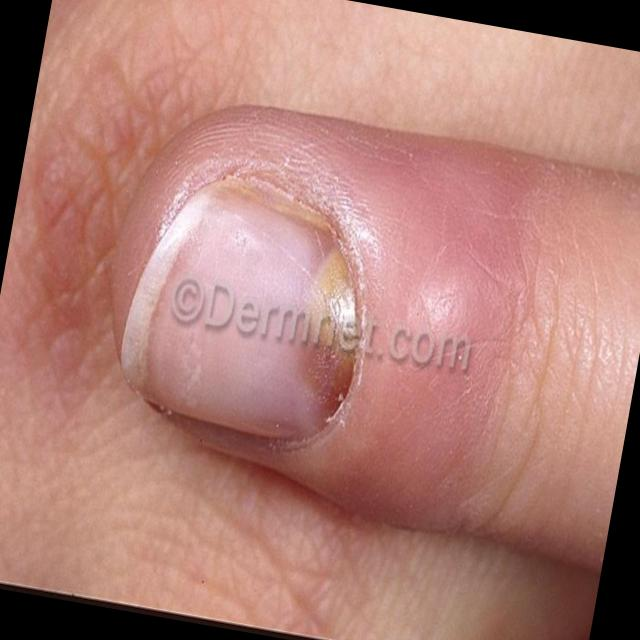Nail: (122, 178, 358, 441)
